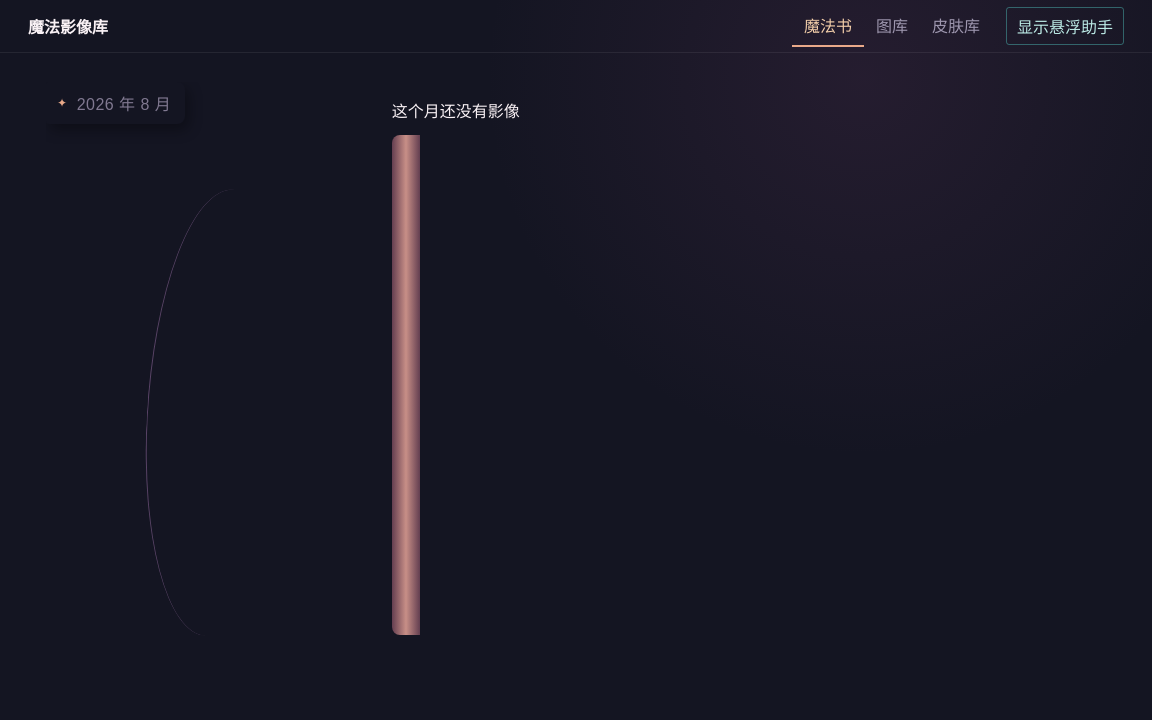
it: keeps the visibility state and exposes an alert when restoring fails
Click the button "显示悬浮助手". click: (1065, 26)
box: [1006,7,1124,45]
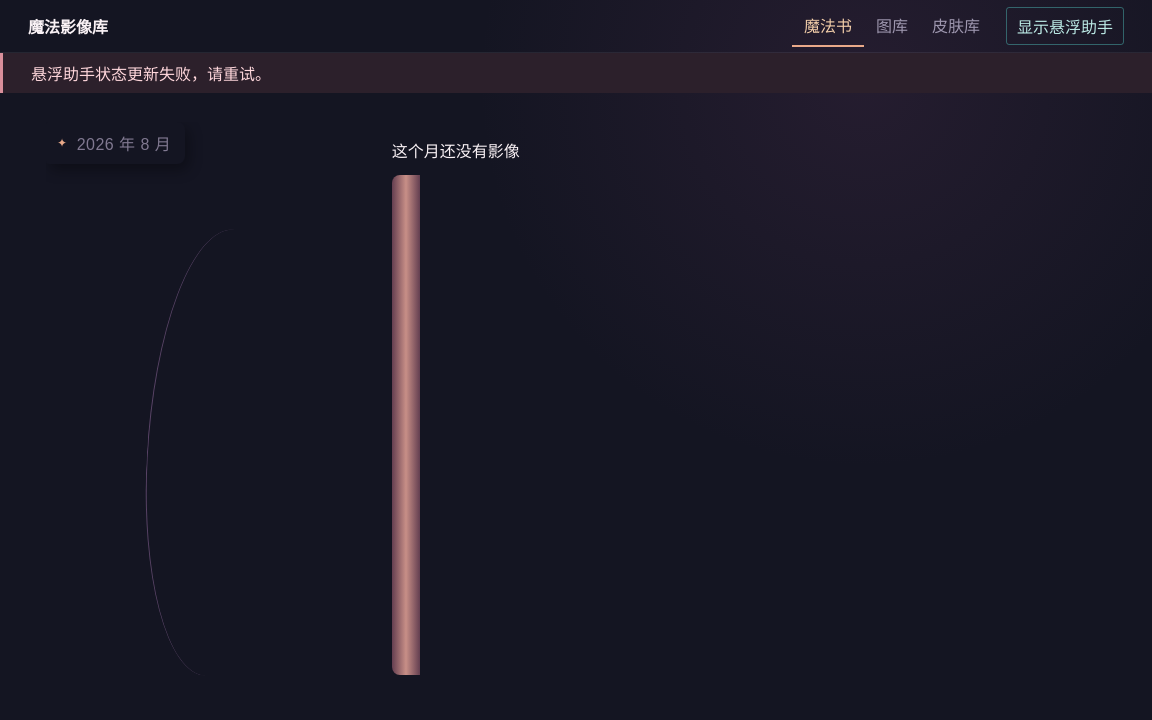
Result: the message shows "悬浮助手状态更新失败" at [31,66,271,83]
